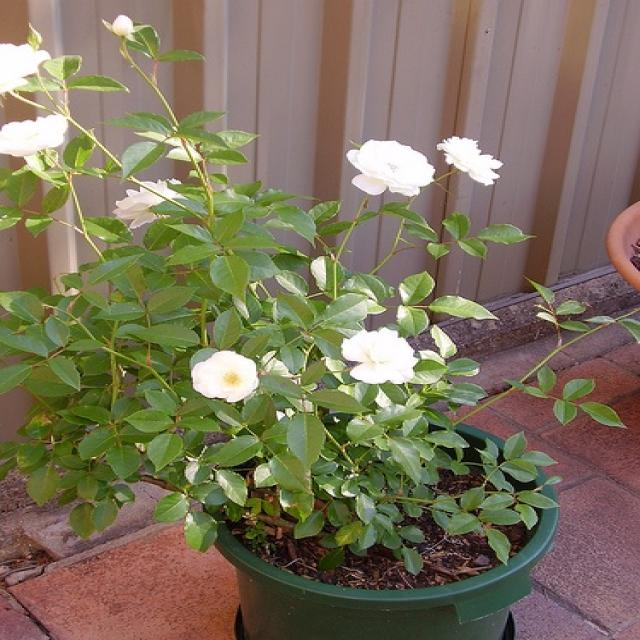pottedplant: (0, 14, 635, 639)
